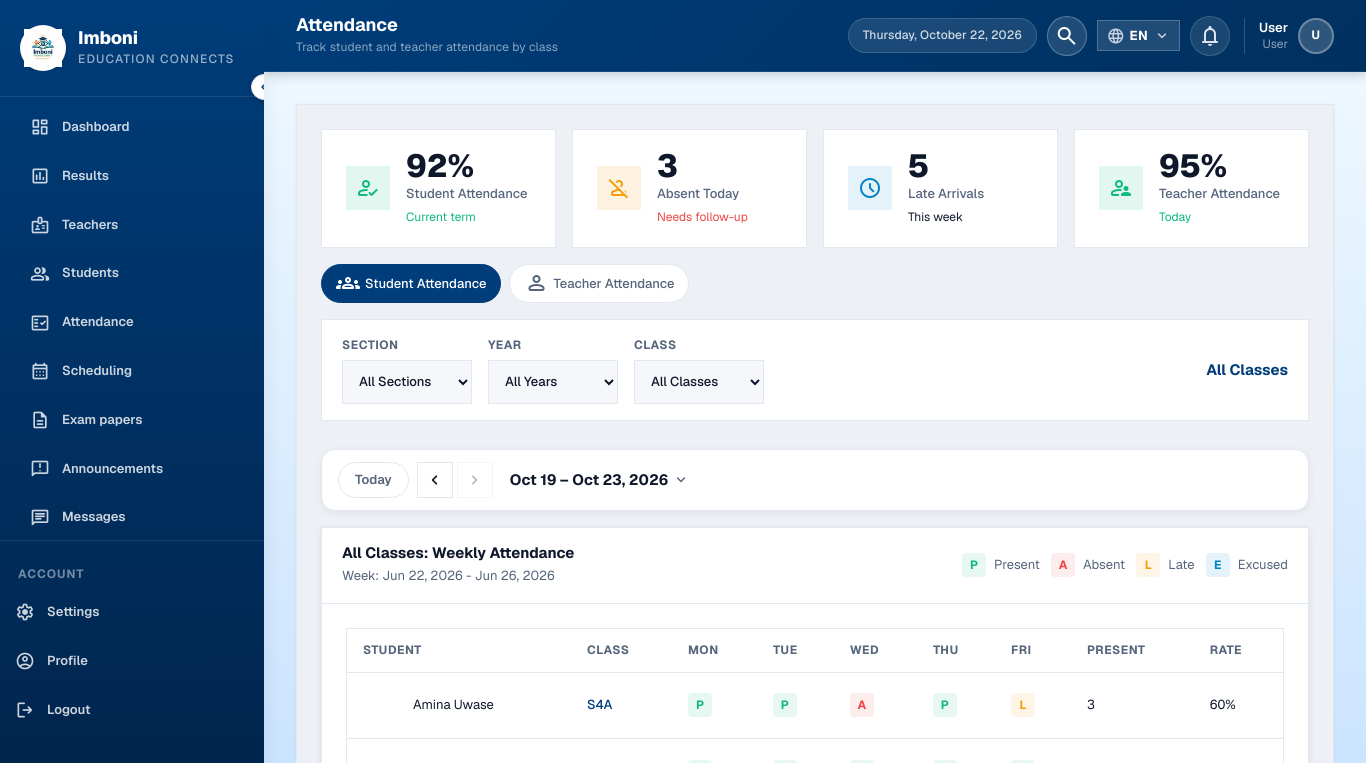
Test case: DosAttendance › saves edited teacher attendance with the correct payload
Expected: the text "Amina Uwase" is shown, [413, 695, 494, 716]
Click the button "Teacher Attendance".
click(599, 283)  # box [509, 264, 690, 303]
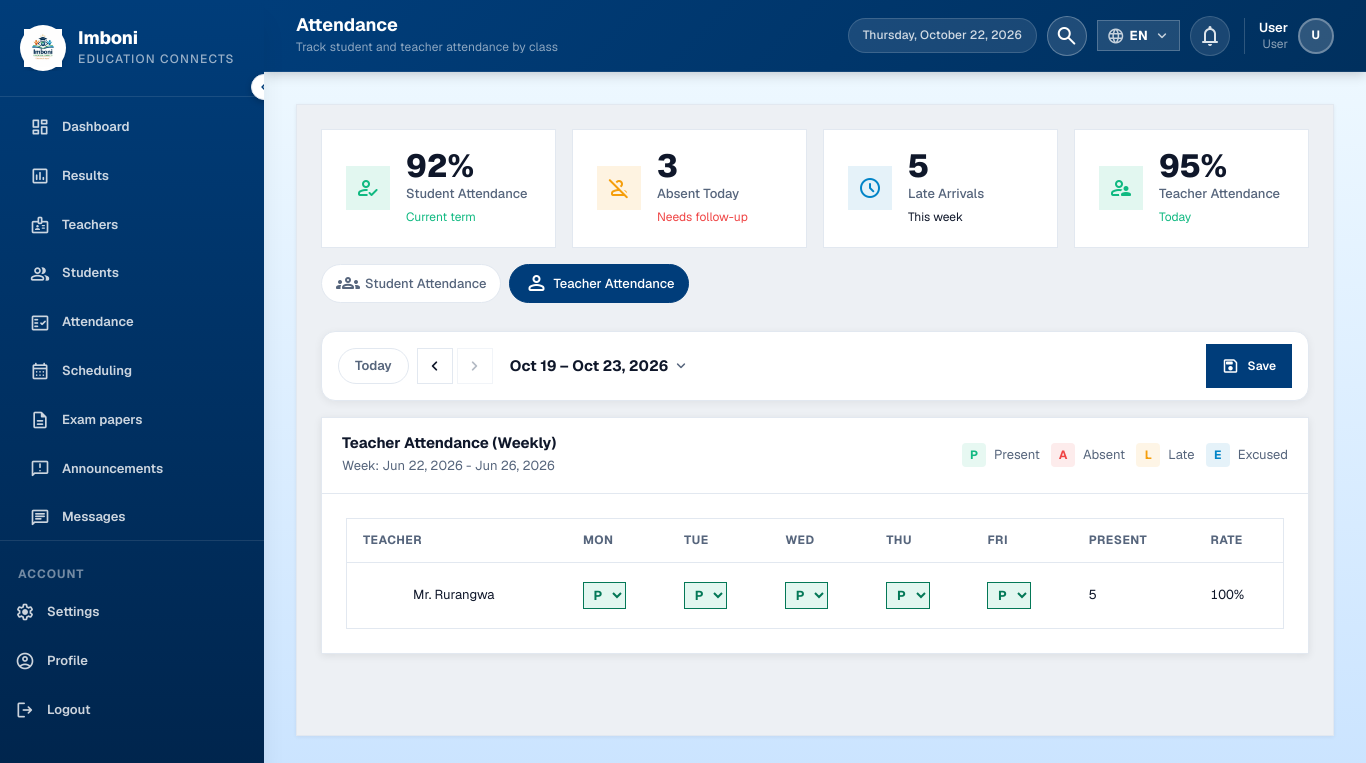
Expected: the text "Mr. Rurangwa" is shown, [413, 585, 494, 606]
# change Monday's status for the teacher to 'absent'
Select "A" in the 1st dropdown at (604, 595), box [583, 582, 626, 609]
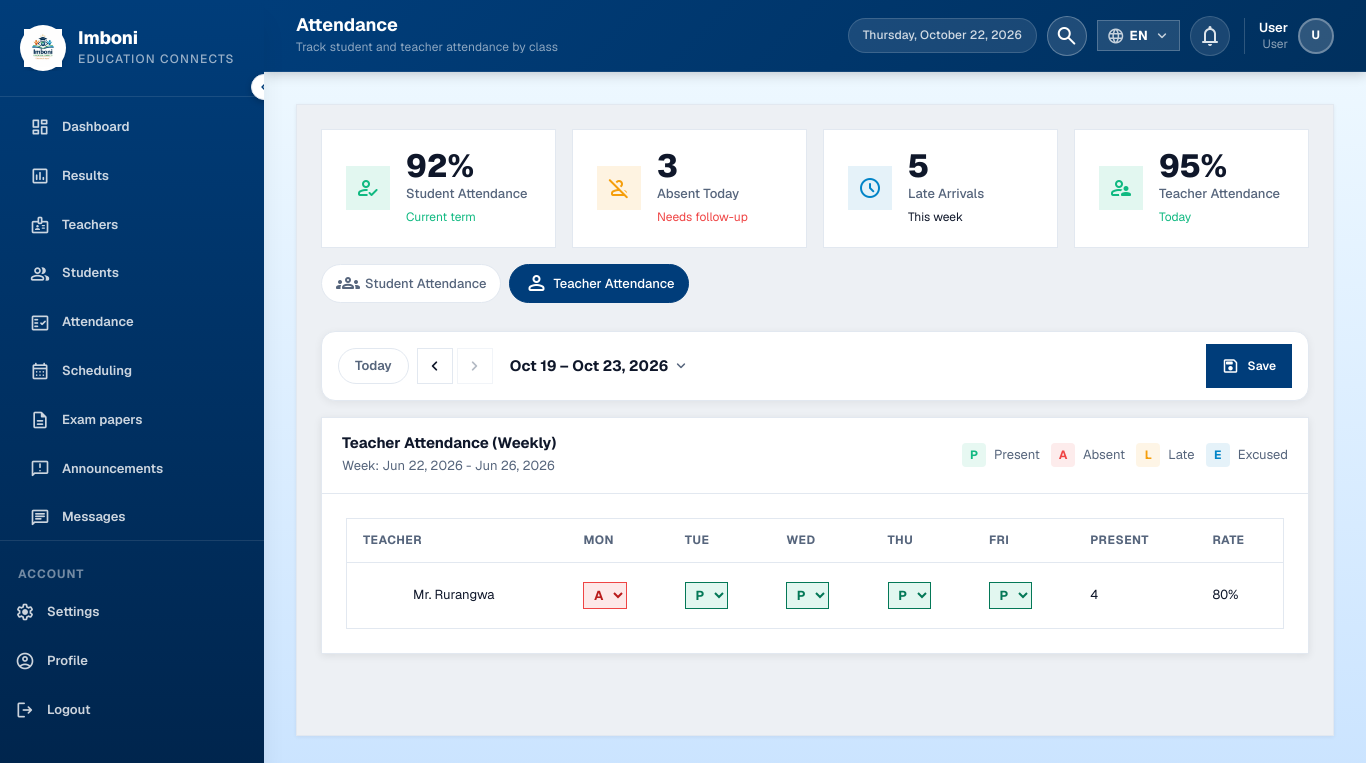
Click the button "Save".
click(1249, 366)  # box [1206, 344, 1292, 388]
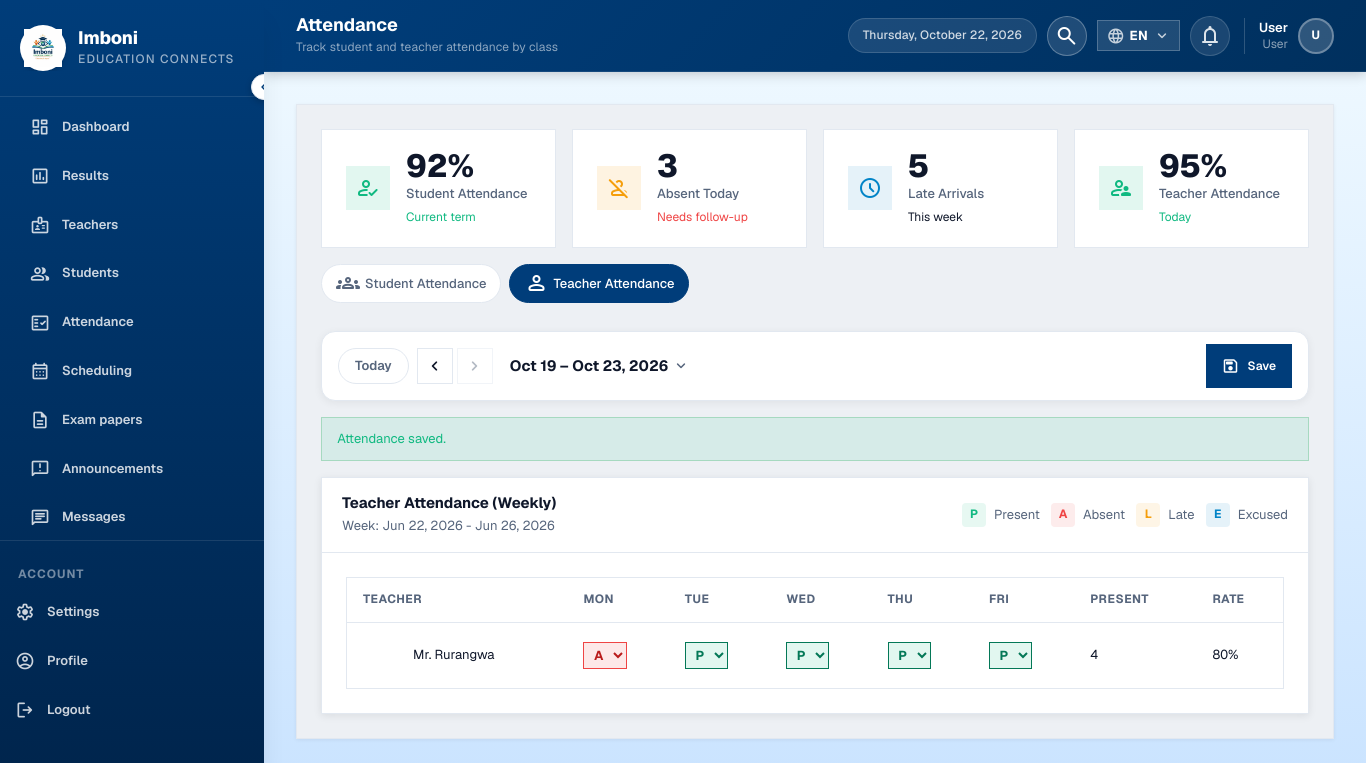
Expected: the text "Attendance saved." is shown, [321, 417, 1309, 461]
